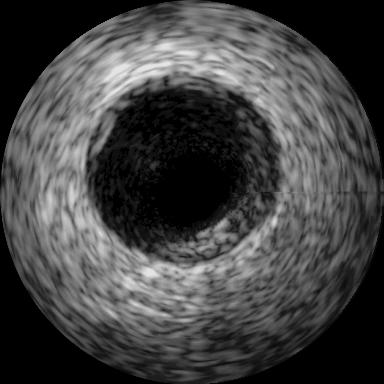Lumen: (149, 147, 239, 236)
